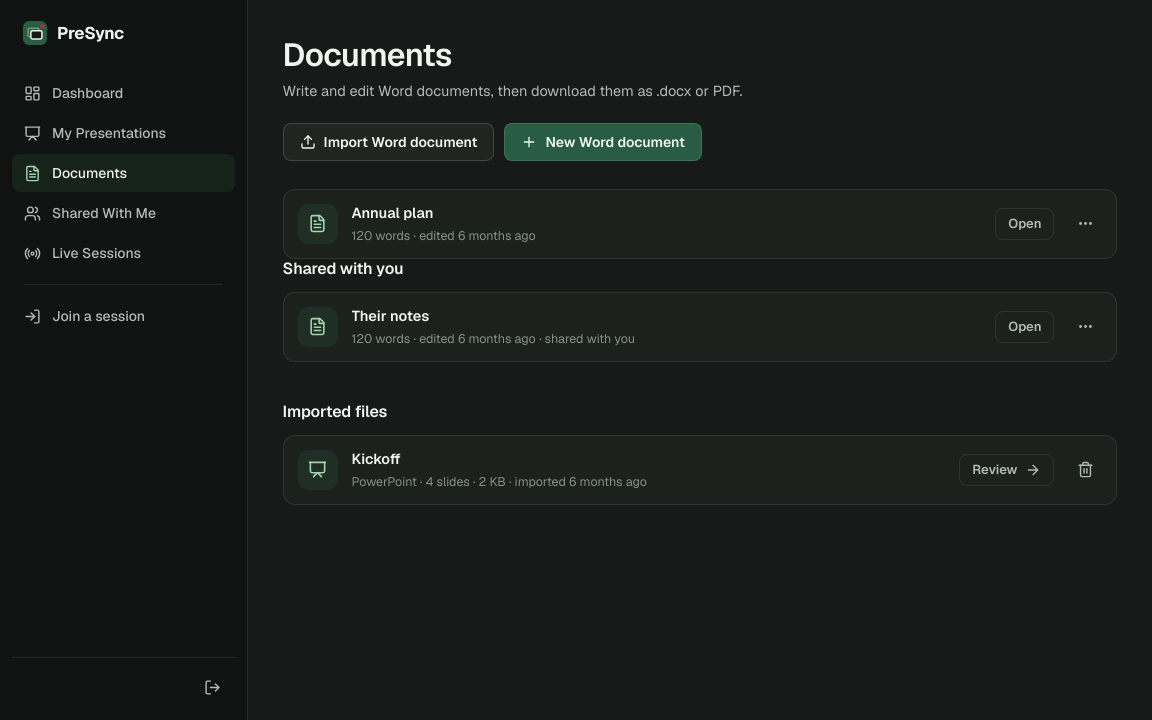
Test: DocumentsPage › offers an import made for Word
This screenshot has width=1152, height=720.
Expected: the list named "Word documents" is shown, [282,189,1117,259]
Click the button "Import Word document". click: [388, 142]
box: [282,123,494,161]
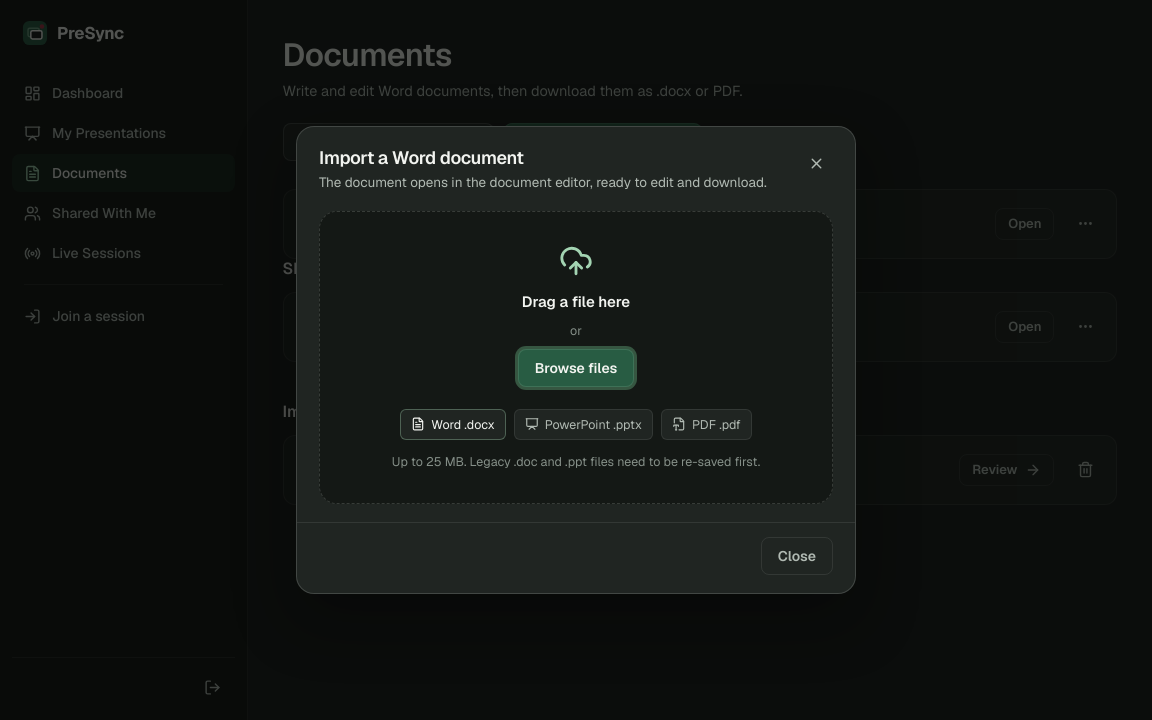
Expected: the dialog "Import a Word document" is shown, [296,126,856,594]
